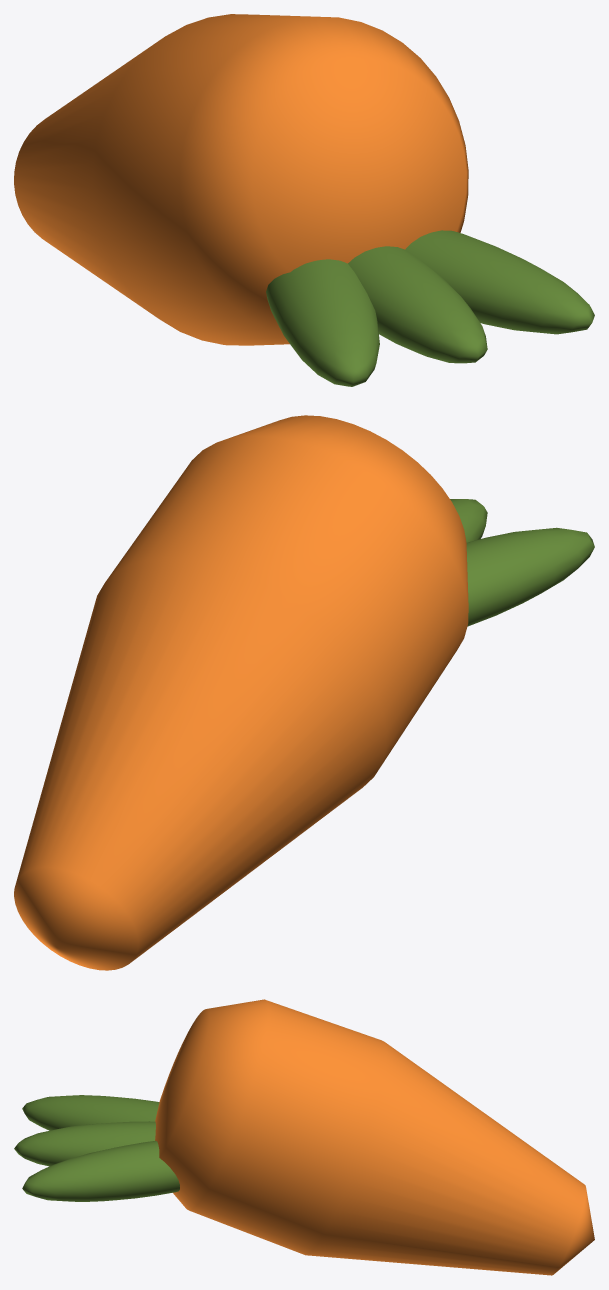
Rendered from carrot-whole.obj.
The picture shows the model from 3 angles, top to bottom: view 1: azimuth 30°, elevation 25°; view 2: azimuth 150°, elevation 25°; view 3: azimuth 270°, elevation 25°; orthographic projection. The views are drawn at different scales.
Parts seen in each view (by area): view 1: carrot-whole_carrot, carrot-whole_leaf; view 2: carrot-whole_carrot, carrot-whole_leaf; view 3: carrot-whole_carrot, carrot-whole_leaf.
Part boxes in pixels (x1=…): carrot-whole_carrot: x1=14, y1=14, x2=468, y2=345; carrot-whole_leaf: x1=266, y1=230, x2=594, y2=386; carrot-whole_carrot: x1=14, y1=415, x2=468, y2=970; carrot-whole_leaf: x1=450, y1=499, x2=594, y2=626; carrot-whole_carrot: x1=155, y1=999, x2=594, y2=1275; carrot-whole_leaf: x1=14, y1=1095, x2=179, y2=1201.
Bounding box in the file's own units: 0.118 × 0.1481 × 0.3.
